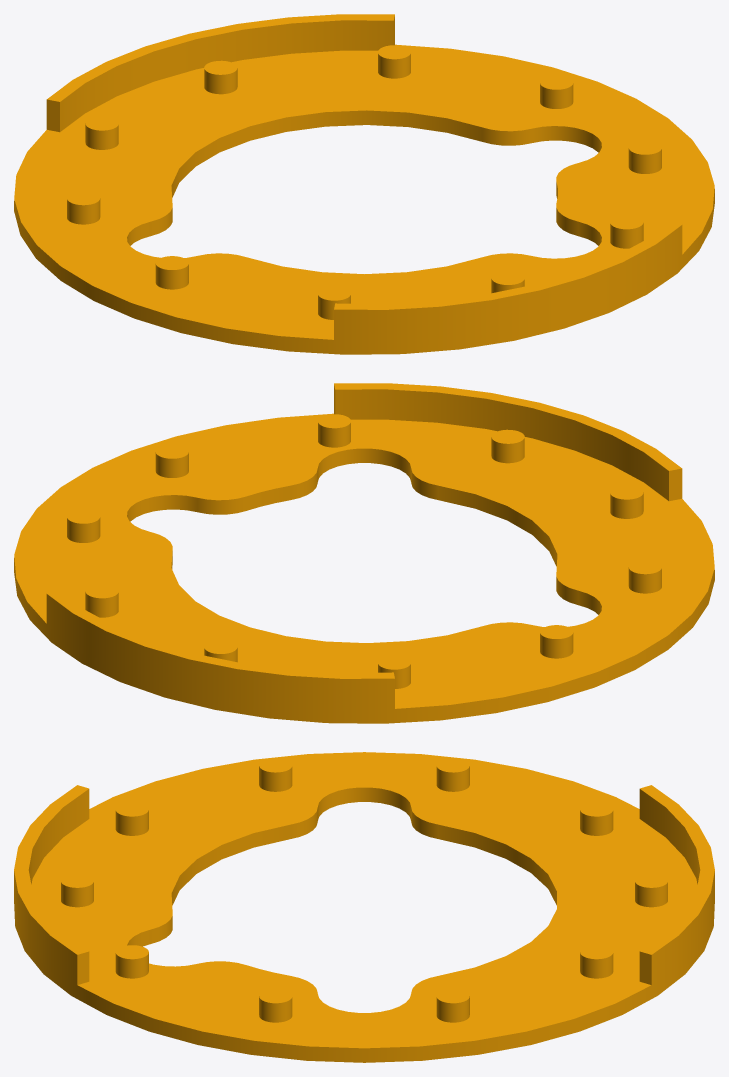
The model's file is StomaStrap105Ring001.glb.
3 views of the same model, one above another, from view 1: azimuth 30°, elevation 25°; view 2: azimuth 150°, elevation 25°; view 3: azimuth 270°, elevation 25° (orthographic).
Parts seen in each view (by area): view 1: Body_Ring; view 2: Body_Ring; view 3: Body_Ring.
Boxes of the visible parts, box(x1,y1,x2,y2) form: Body_Ring: box(14, 14, 714, 354); Body_Ring: box(14, 383, 714, 723); Body_Ring: box(14, 752, 714, 1062).
Size of the model in its own units: 0.105 by 0.0074 by 0.105.
